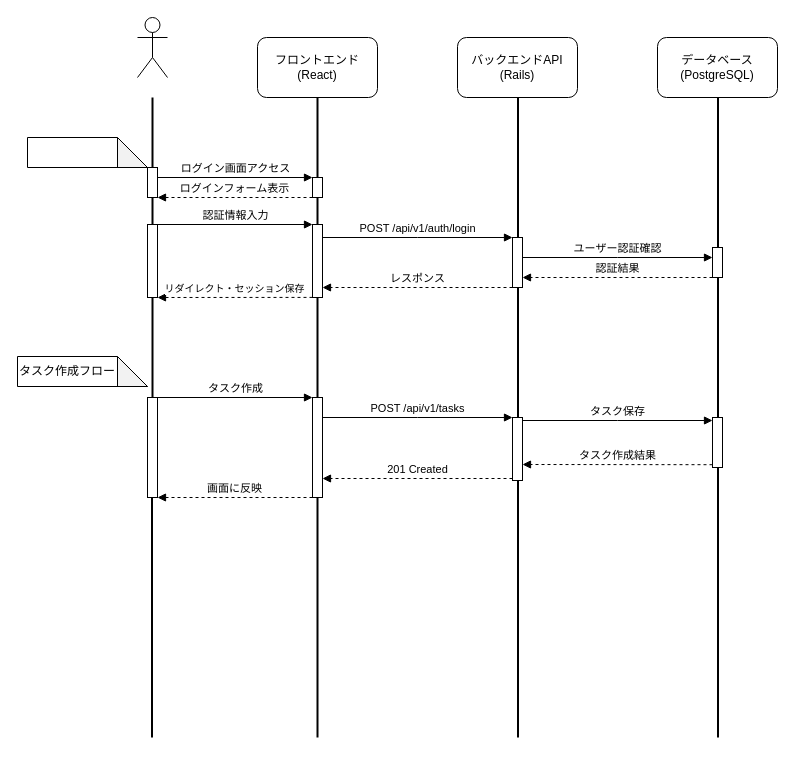
This 795x757 diagram has some shape labels left out. Each missing label, with the centre of its shape:
ユーザー: [152,47]
ログインフロー: [87,152]
